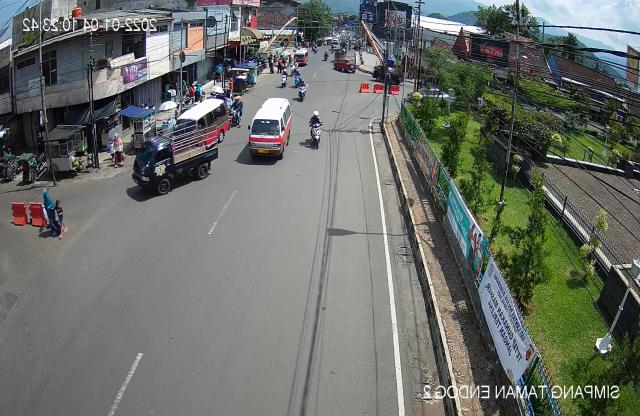Mobil: (130, 121, 216, 202), (243, 98, 296, 166), (174, 95, 232, 152)
Motor: (300, 109, 325, 151)
